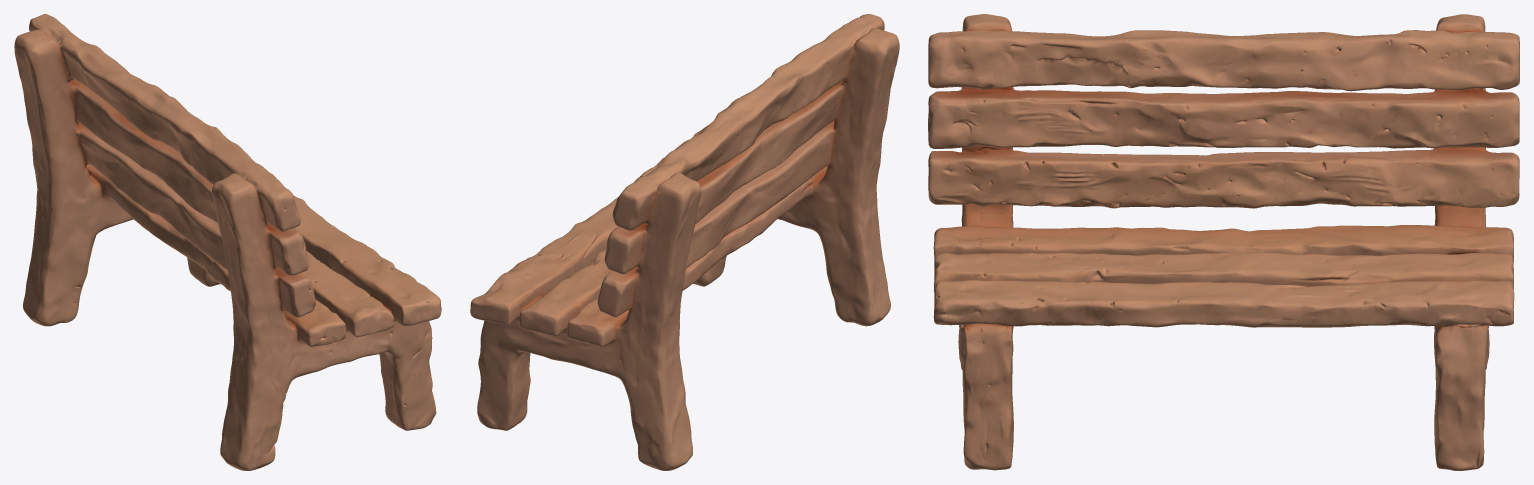
Rendered from bench.glb.
3 renders of one model, left to right at view 1: azimuth 30°, elevation 25°; view 2: azimuth 150°, elevation 25°; view 3: azimuth 270°, elevation 25°, orthographic. The views are drawn at different scales.
Parts seen in each view (by area): view 1: tripo_node_8162e18f-93a8-475d-818b-ccf175ce1549; view 2: tripo_node_8162e18f-93a8-475d-818b-ccf175ce1549; view 3: tripo_node_8162e18f-93a8-475d-818b-ccf175ce1549.
Boxes of the visible parts, x1=… form: tripo_node_8162e18f-93a8-475d-818b-ccf175ce1549: x1=14, y1=14, x2=441, y2=470; tripo_node_8162e18f-93a8-475d-818b-ccf175ce1549: x1=470, y1=14, x2=899, y2=470; tripo_node_8162e18f-93a8-475d-818b-ccf175ce1549: x1=928, y1=14, x2=1519, y2=470.
Size of the model in its own units: 0.4913 by 0.6387 by 0.9998.
Materials: 1 (1 with a texture image).
